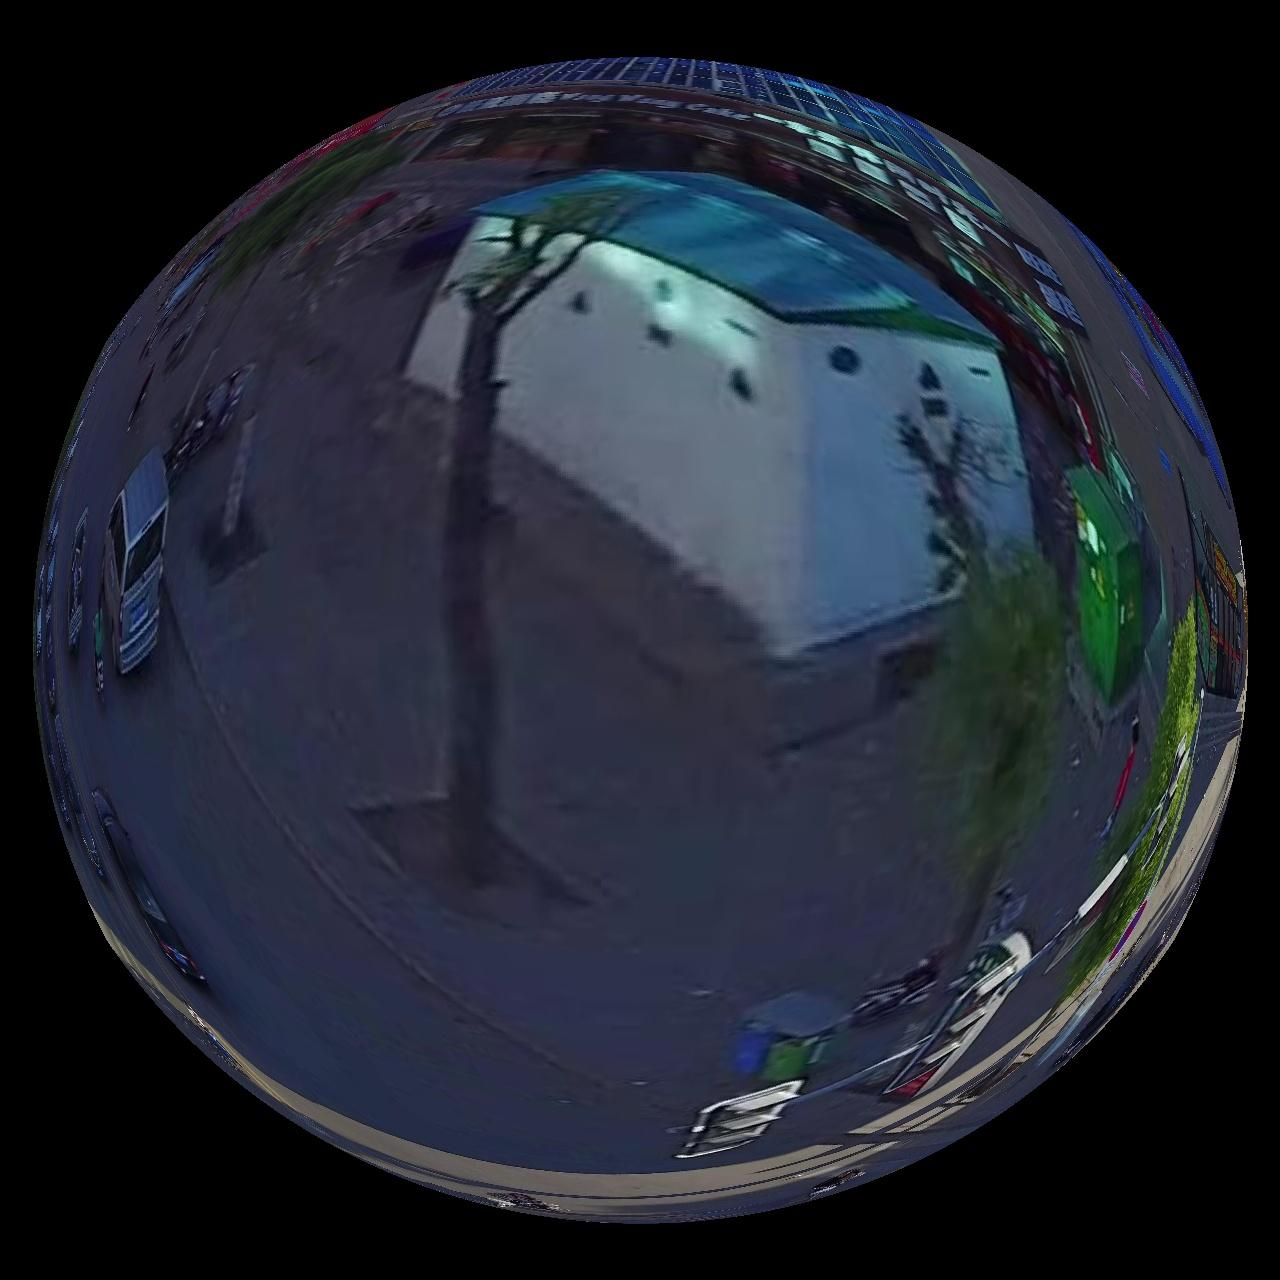cars: (90, 789, 206, 986), (102, 447, 168, 674)
trees: (444, 197, 600, 847)
